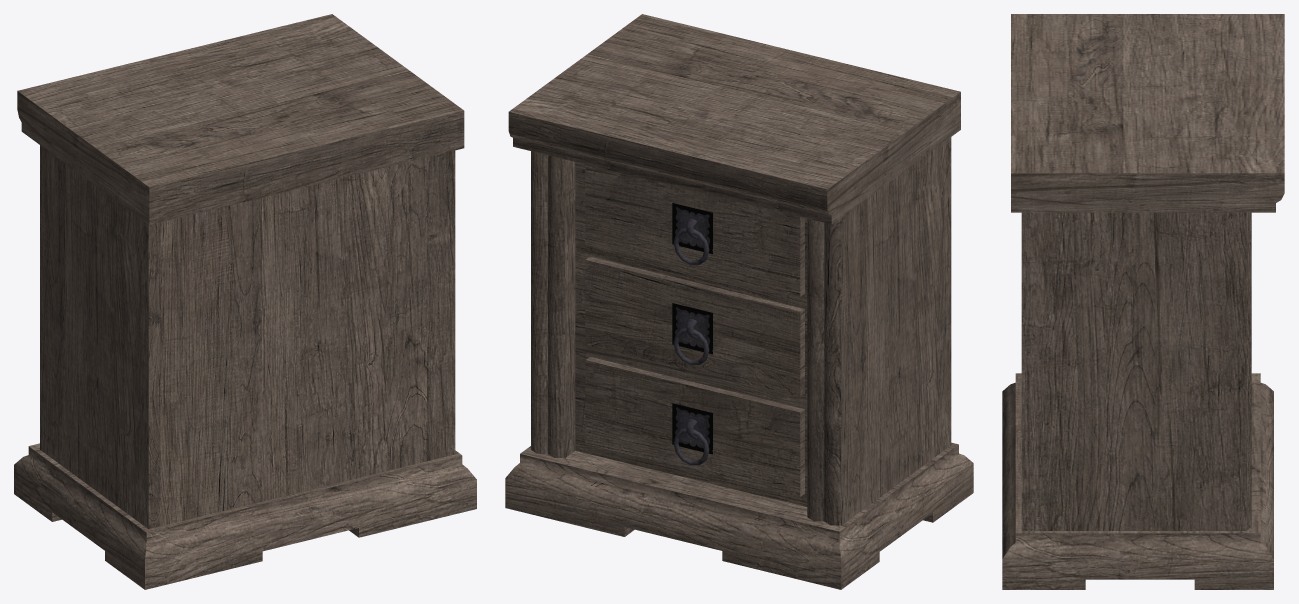
The model's file is mw_wardrobe_small_02.FBX.
3 renders of one model, left to right at view 1: azimuth 30°, elevation 25°; view 2: azimuth 150°, elevation 25°; view 3: azimuth 270°, elevation 25°, orthographic. The views are drawn at different scales.
Parts seen in each view (by area): view 1: mw_wardrobe_small_02; view 2: mw_wardrobe_small_02; view 3: mw_wardrobe_small_02.
Part boxes in pixels (<box>): mw_wardrobe_small_02: <box>14,14,476,589</box>; mw_wardrobe_small_02: <box>505,14,973,589</box>; mw_wardrobe_small_02: <box>1002,14,1284,589</box>.
Size of the model in its own units: 102 by 117 by 72.5.
